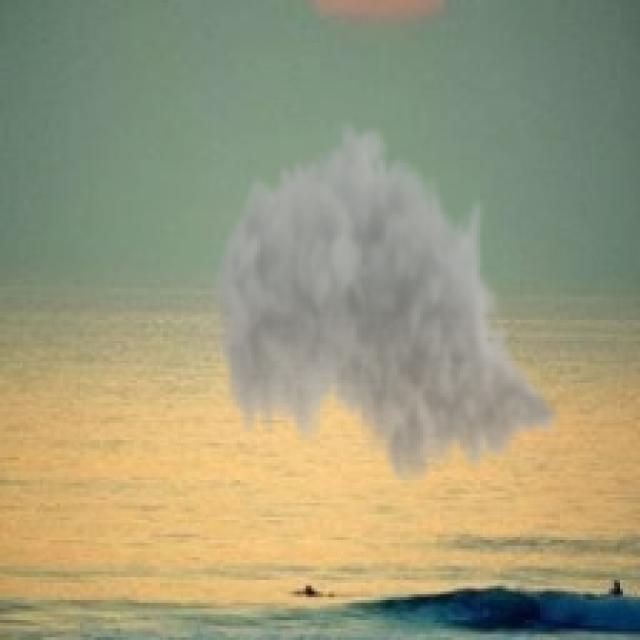smoke: (208, 112, 563, 497)
